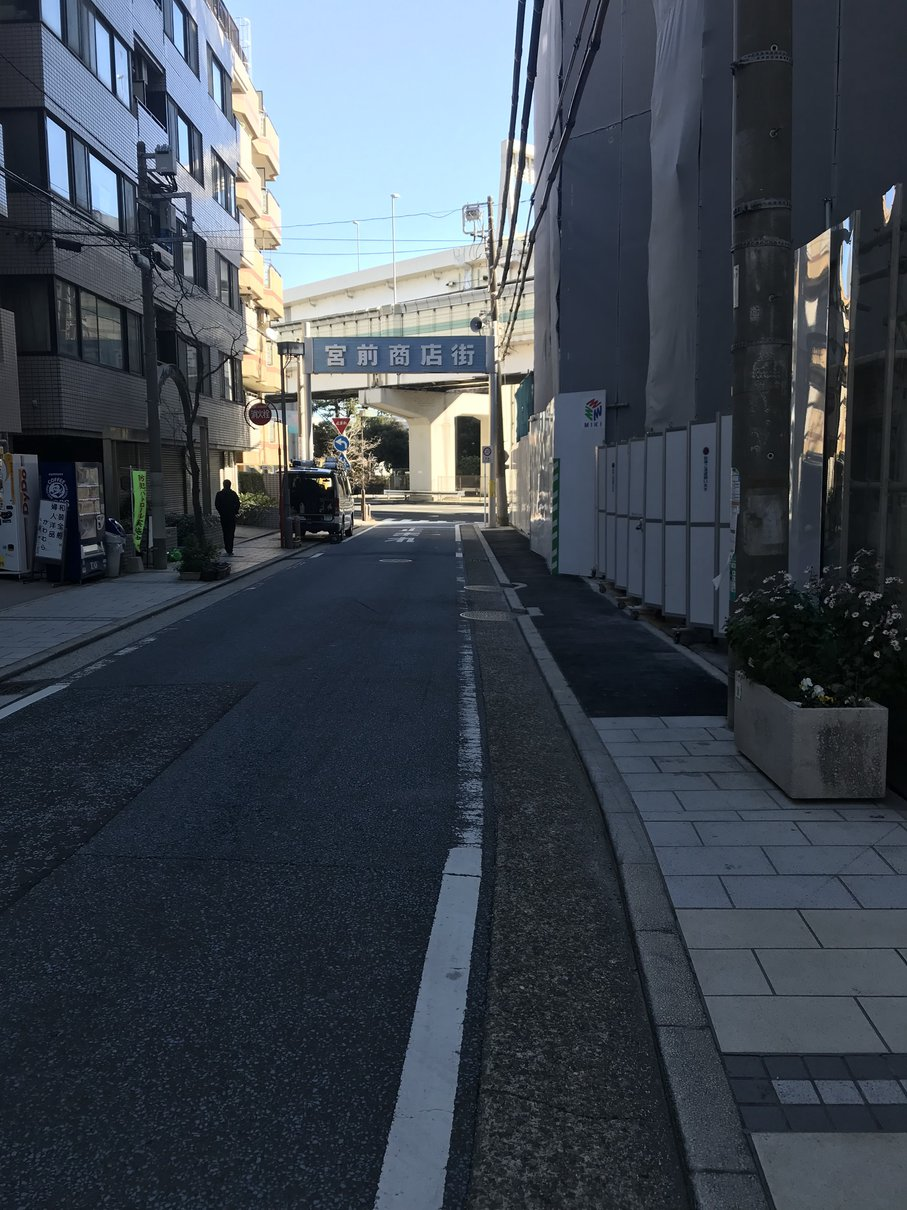stop_sign: (331, 415, 351, 434)
